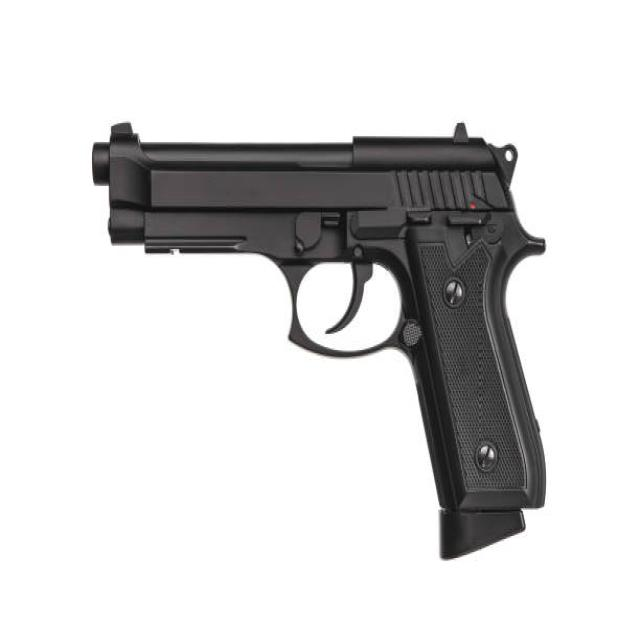pistol: (88, 114, 556, 578)
